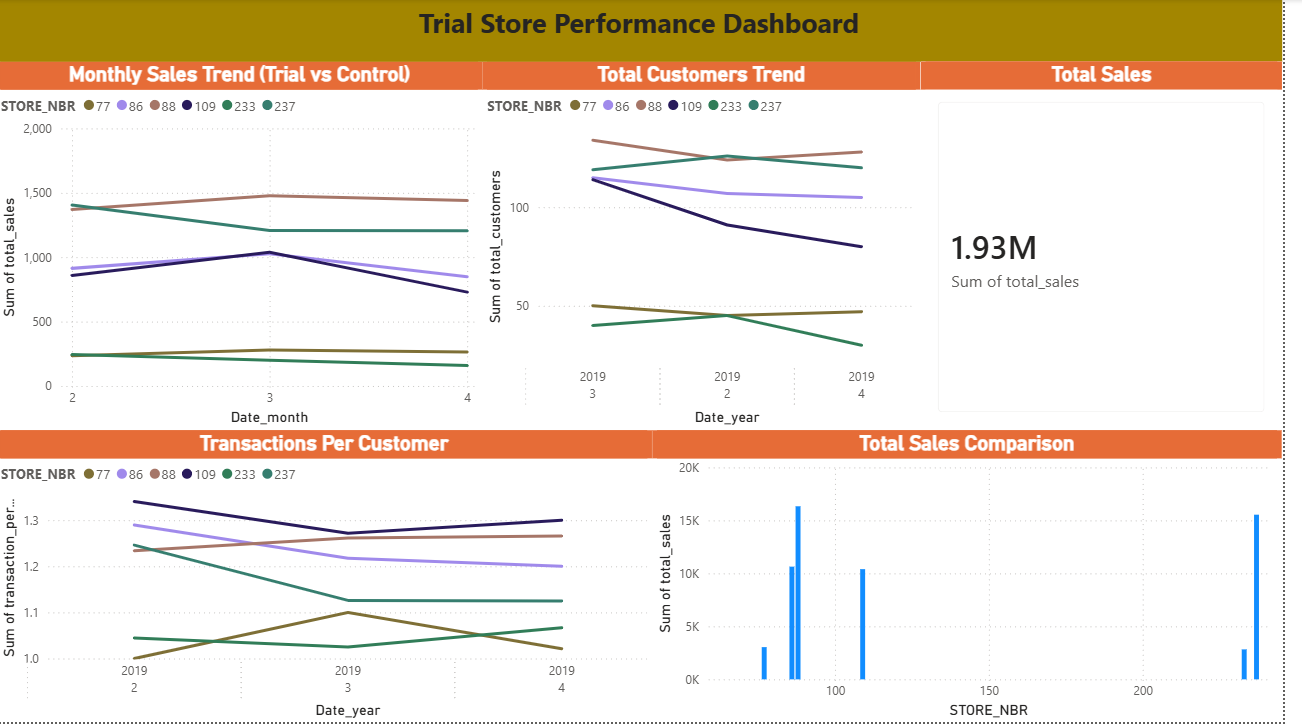

Layout of this report page (visuals, bound fields, positions):
{"tool":"powerbi","page":{"name":"Page 1","canvas":[1280,720],"ordinal":0},"visuals":[{"type":"lineChart","title":"Monthly Sales Trend (Trial vs Control)","fields":{"Category":["store_monthly_metrics.Date_month","store_monthly_metrics.Date_year"],"Y":["Sum(store_monthly_metrics.total_sales)"],"Series":["store_monthly_metrics.STORE_NBR"]},"box":[0,62.3,484.1,366.6],"z":0},{"type":"lineChart","title":"Total Customers Trend","fields":{"Category":["store_monthly_metrics.Date_month","store_monthly_metrics.Date_year"],"Y":["Sum(store_monthly_metrics.total_customers)"],"Series":["store_monthly_metrics.STORE_NBR"]},"box":[484.1,62.3,436,366.6],"z":1},{"type":"lineChart","title":"Transactions Per Customer","fields":{"Category":["store_monthly_metrics.Date_month","store_monthly_metrics.Date_year"],"Y":["Sum(store_monthly_metrics.transaction_per_customer)"],"Series":["store_monthly_metrics.STORE_NBR"]},"box":[0,428.9,653.2,291.9],"z":2},{"type":"clusteredColumnChart","title":"Total Sales Comparison","fields":{"Category":["store_monthly_metrics.STORE_NBR"],"Y":["Sum(store_monthly_metrics.total_sales)"]},"box":[653.2,428.9,626.5,291.9],"z":3},{"type":"textbox","box":[0,0,1279.7,62.3],"z":4},{"type":"cardVisual","title":"Total Sales","fields":{"Data":["Sum(store_monthly_metrics.total_sales)"]},"box":[920.1,62.3,359.5,366.6],"z":5}]}

Visuals, with their boxes in screenshot pixels (x1, y1, x2, y2), scaled from the page's 1280x720 canvas onto the 1302x726 screenshot:
"Monthly Sales Trend (Trial vs Control)" lineChart: bbox(0, 63, 492, 432)
"Total Customers Trend" lineChart: bbox(492, 63, 936, 432)
"Transactions Per Customer" lineChart: bbox(0, 432, 664, 725)
"Total Sales Comparison" clusteredColumnChart: bbox(664, 432, 1301, 725)
textbox: bbox(0, 0, 1301, 63)
"Total Sales" cardVisual: bbox(936, 63, 1301, 432)
